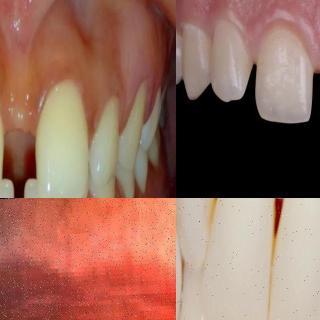maligned: (175, 219, 194, 320)
